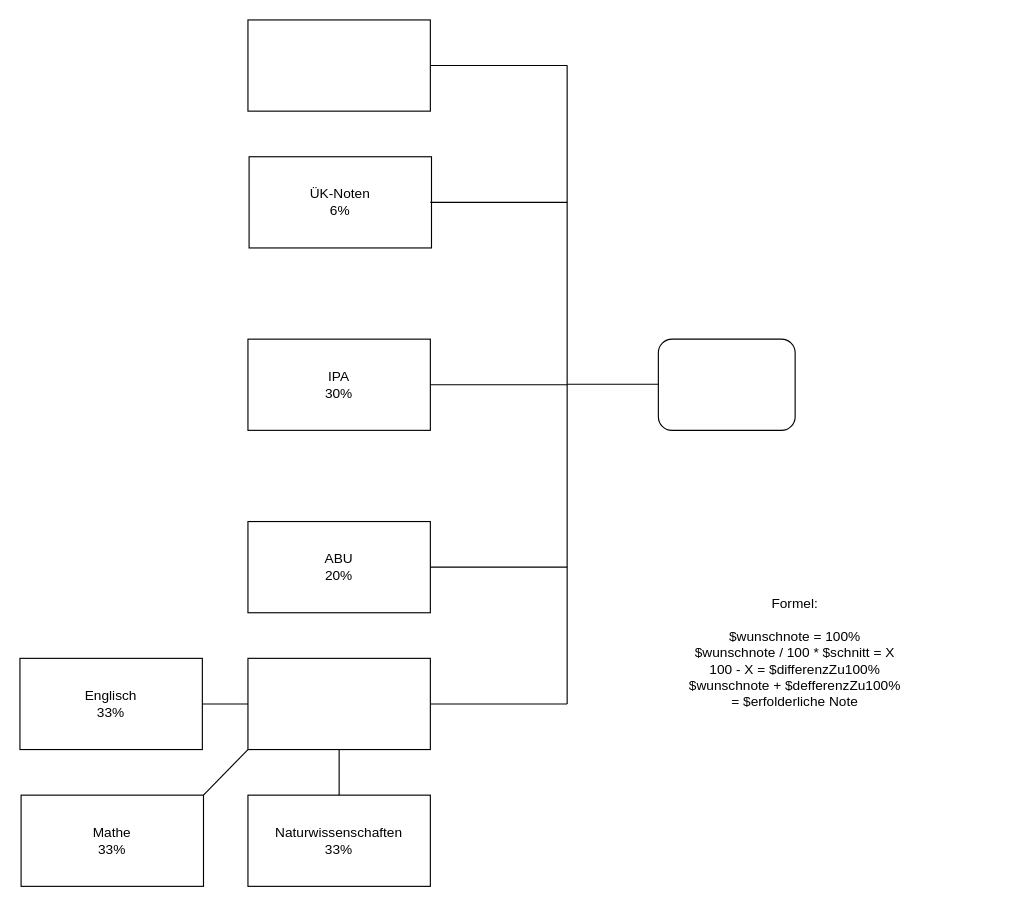
The diagram is 1020 pixels wide and 906 high, and some of its shapes have lost their labels. The shapes that lost their labels are listed below. From the top down, each one's centre as x and y in pixels, then its label:
the point at 338,65: Modulnoten 24%
the point at 726,384: $wunschnote
the point at 338,703: erweiterte Fachkompetenz 20%
